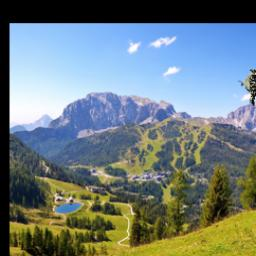Woodpecker: (239, 68, 256, 106)
